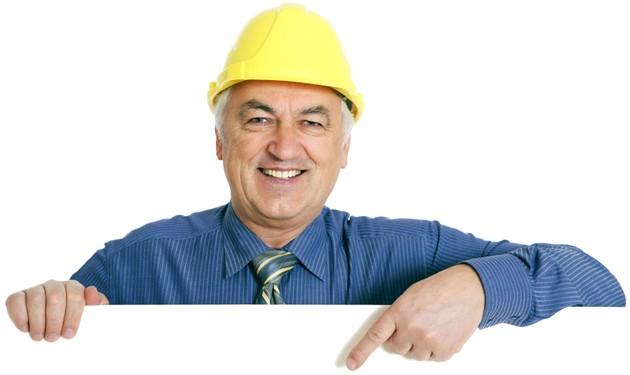helmet: (205, 5, 365, 120)
